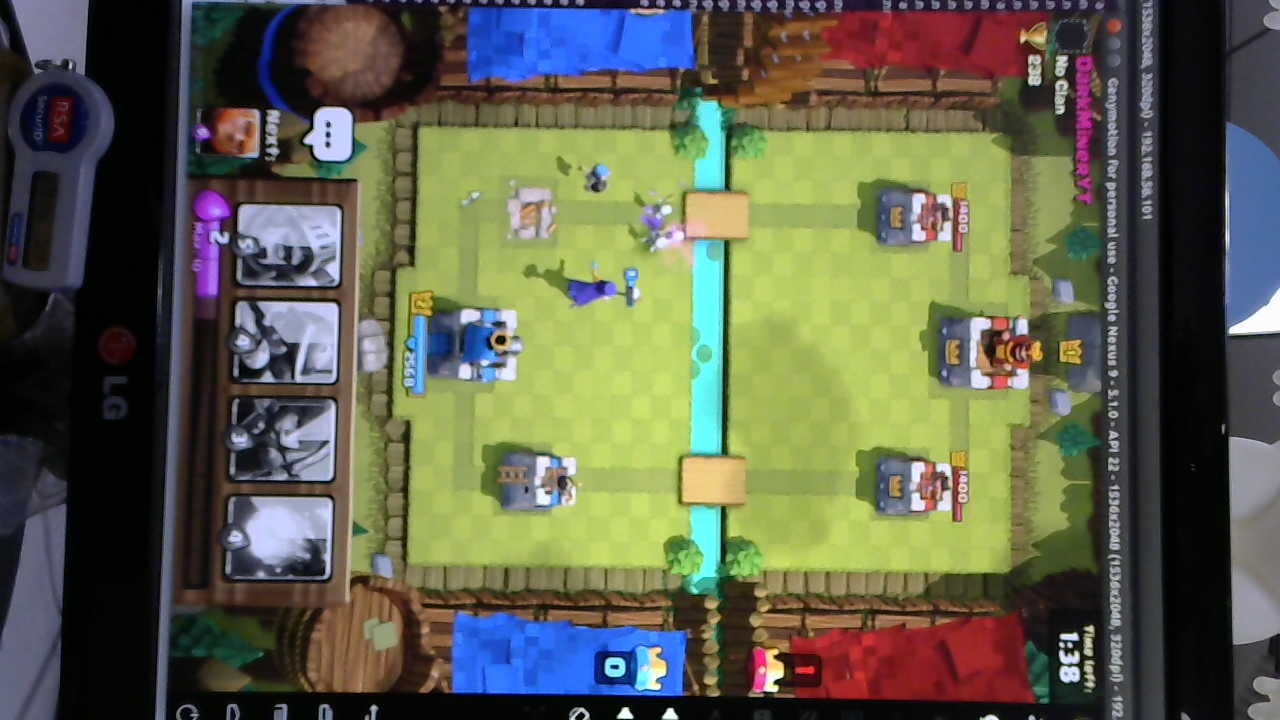arena: (500, 453, 581, 511)
bomb: (586, 161, 614, 196)
darena: (506, 188, 560, 249)
earena: (873, 186, 959, 248), (870, 457, 954, 519)
eking: (934, 307, 1042, 396)
king: (427, 308, 519, 386)
witch: (560, 271, 642, 310), (562, 269, 622, 309)
